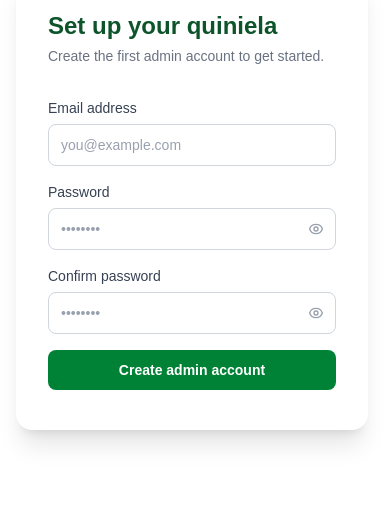
Test: SetupAdminForm › shows generic error when createFirstAdmin returns UNKNOWN_ERROR
This screenshot has width=385, height=516.
Type "admin@example.com" into the field labelled "Email address". click: (192, 145)
box: [48, 124, 336, 166]
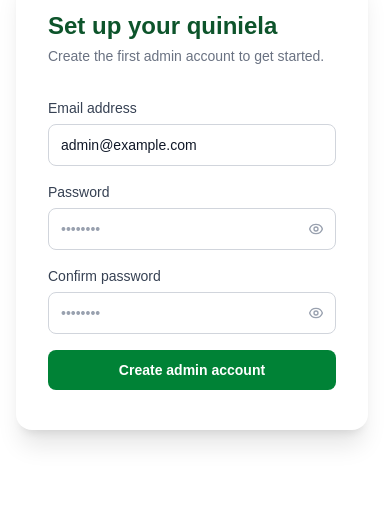
Type "Password1" into the password field labelled "Password". click: (192, 229)
box: [48, 208, 336, 250]
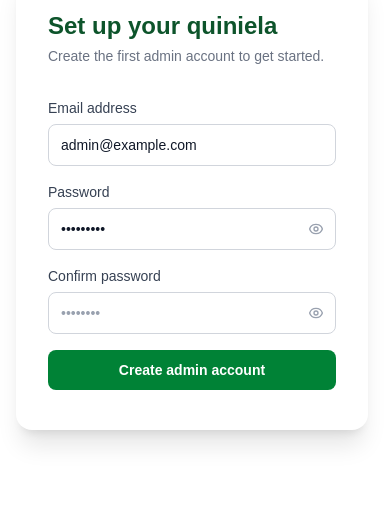
Type "Password1" into the password field labelled "Confirm password". click: (192, 313)
box: [48, 292, 336, 334]
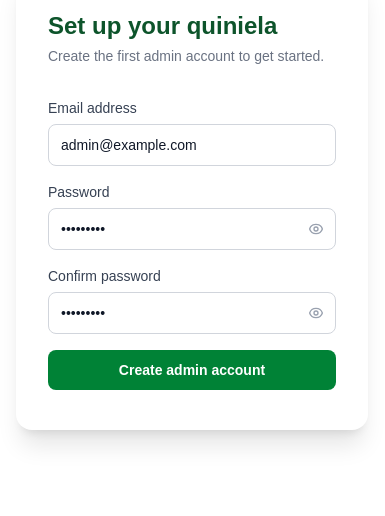
Submit the form labelled "Email address Password Confirm password Create admin account", box [48, 98, 336, 390]
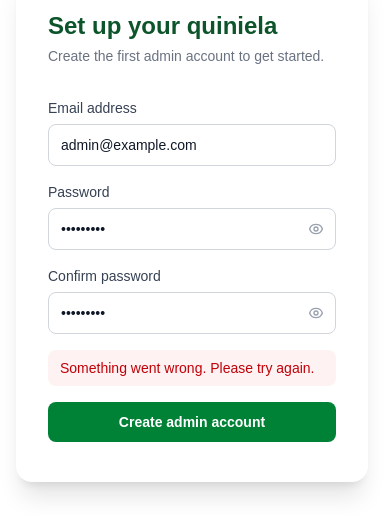
Now the text "Something went wrong. Please try again." is shown, box [48, 350, 336, 386]
